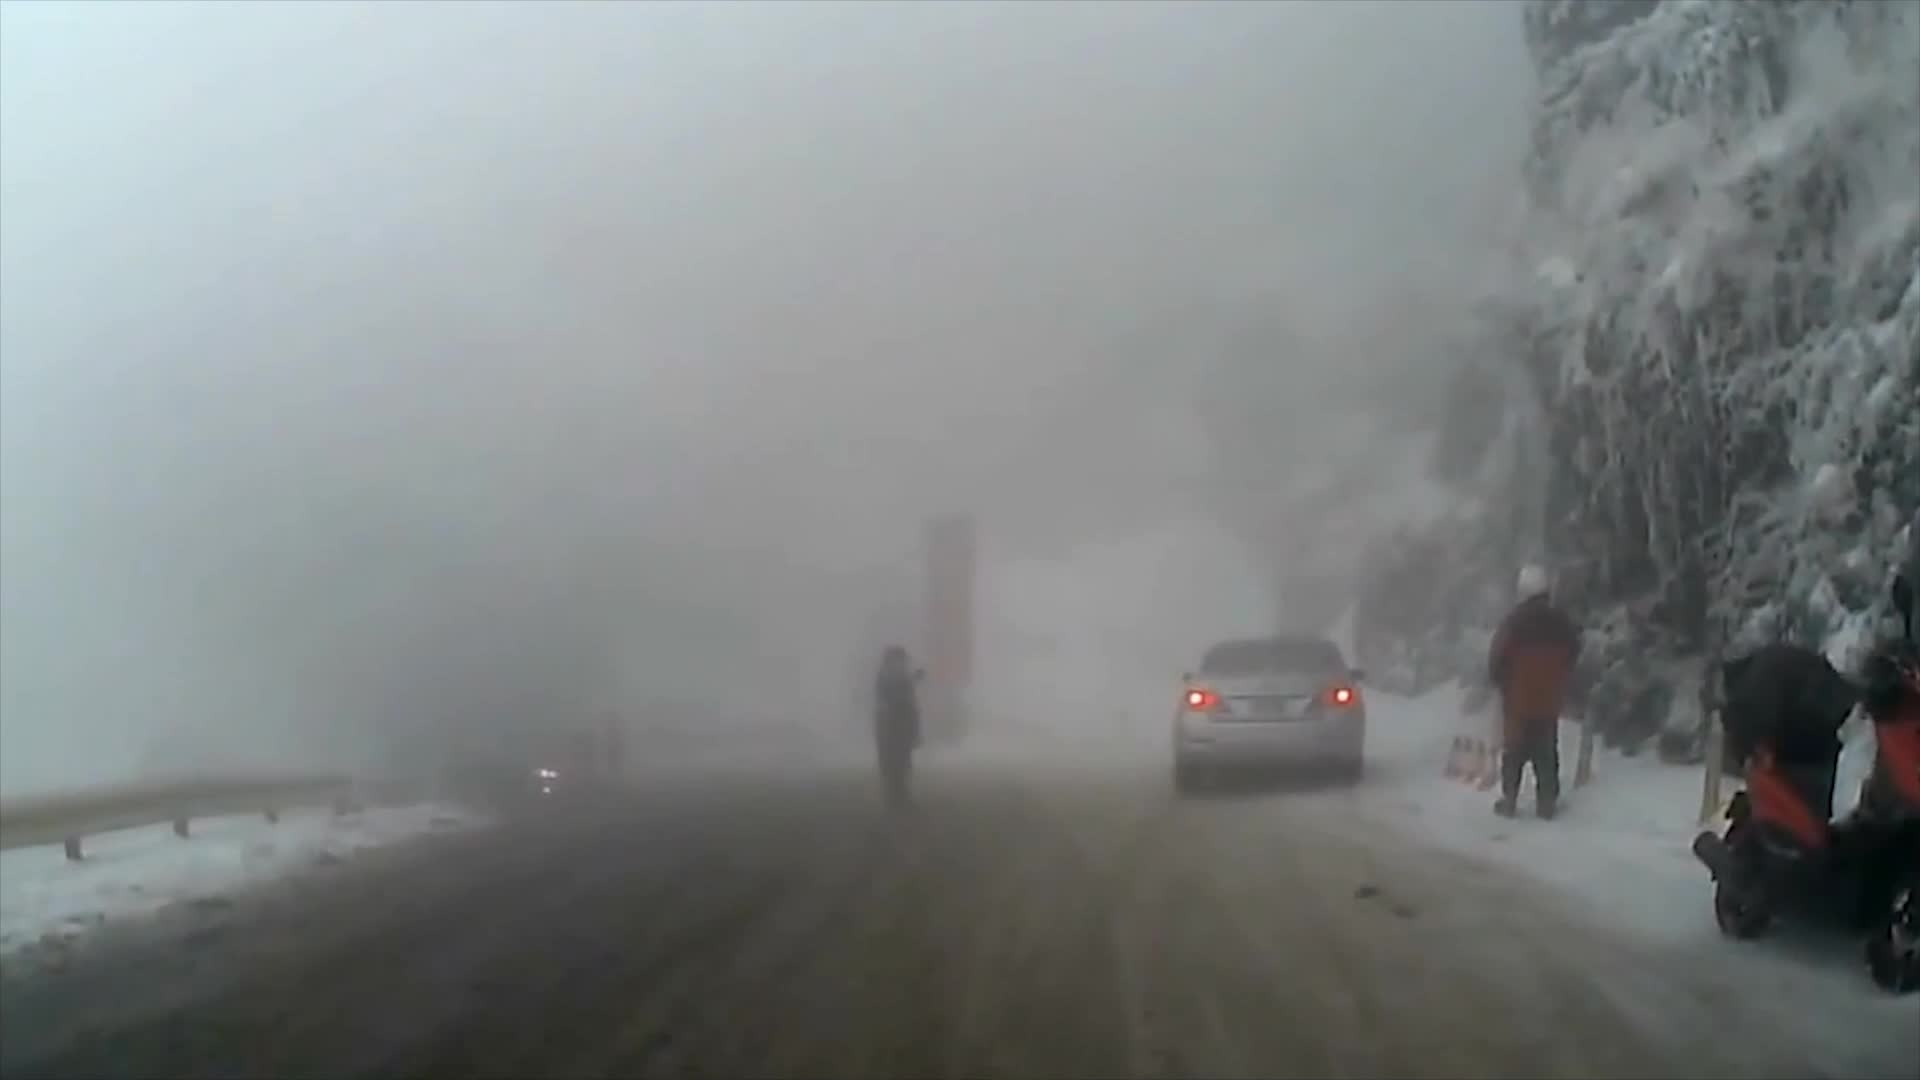pedestrian: (1487, 558, 1594, 819), (872, 643, 930, 814)
vehicle: (1171, 634, 1368, 797)
